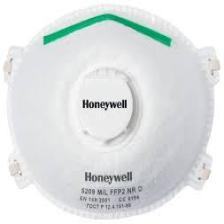mask: (5, 3, 220, 220)
